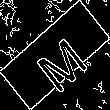M_NW: (23, 21, 87, 89)
